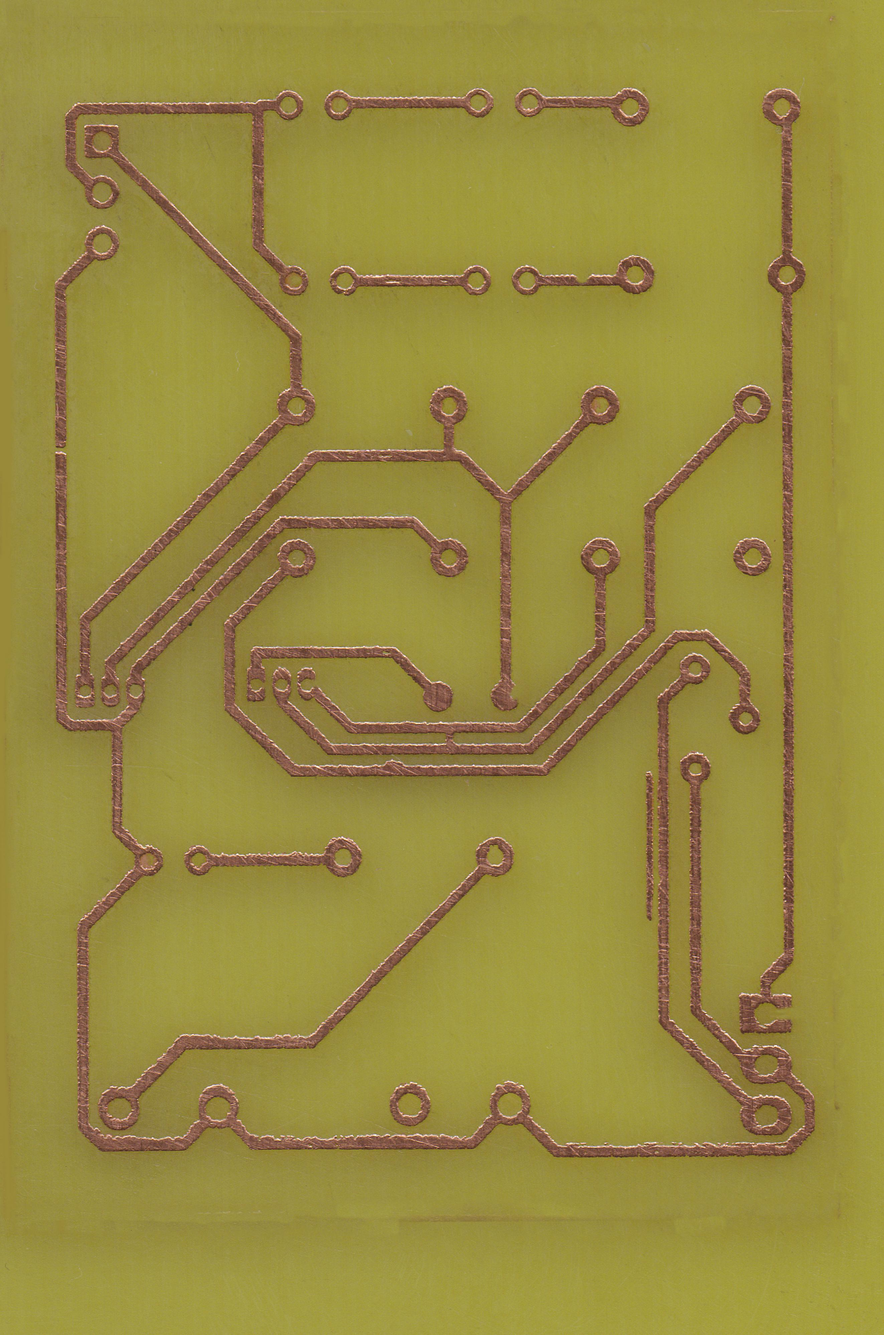missing_hole: (737, 991, 794, 1036), (488, 680, 522, 712), (296, 666, 318, 702)
mouse_bite: (571, 270, 596, 289)
open_circuit: (52, 439, 69, 462)
short: (440, 720, 460, 756)
spur: (381, 757, 408, 779)
spurious_copper: (642, 766, 657, 924)
